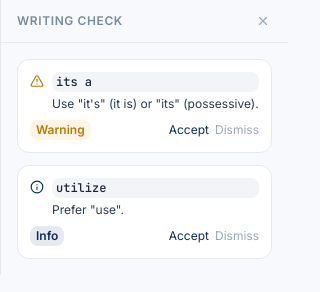
Test: CheckWritingPanel (KR-074) › dismisses an issue when Dismiss is clicked
Check: the text "its a" is shown, box [52, 72, 259, 92]
Click the button "Dismiss" in the row of "Warning".
click(237, 130)  # box [215, 122, 259, 138]
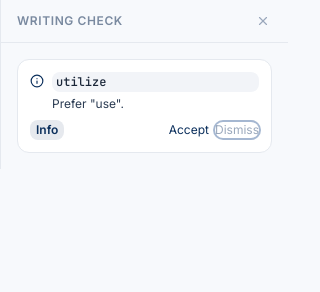
Check: the text "its a" is gone
